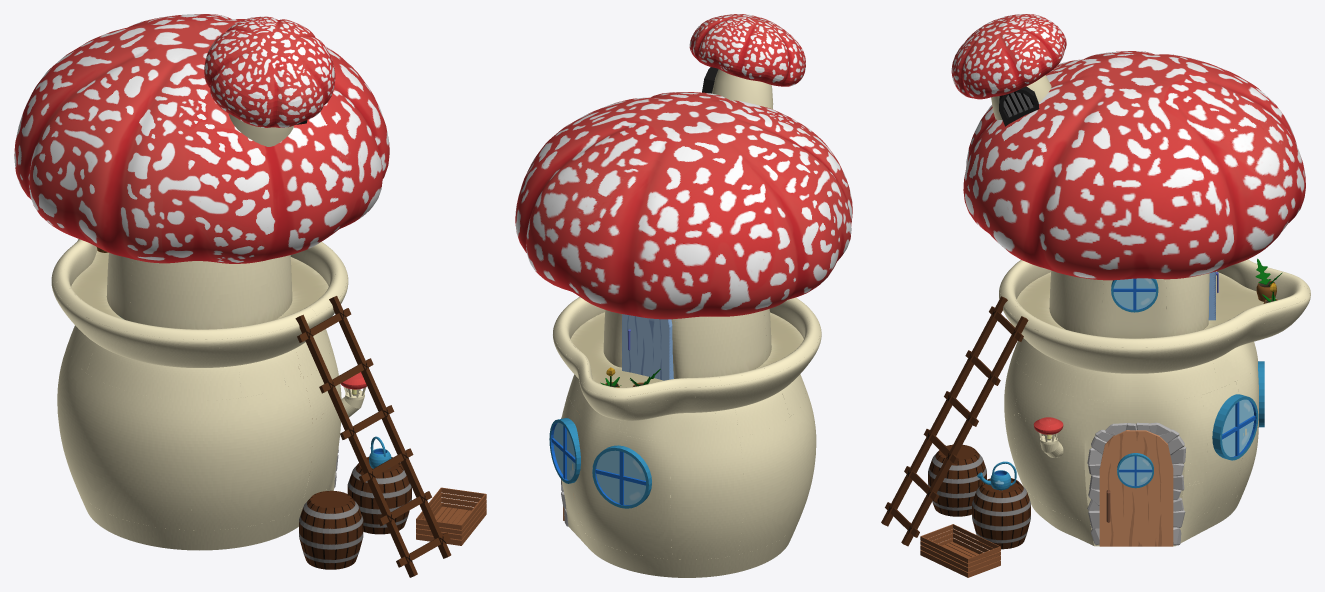
The model's file is mushroom__house.glb.
3 views of the same model, side by side, from view 1: azimuth 30°, elevation 25°; view 2: azimuth 150°, elevation 25°; view 3: azimuth 270°, elevation 25° (orthographic). The views are drawn at different scales.
Parts seen in each view (by area): view 1: CupRoof, object 15, house, CapSmall, object 19, object 16, object 14, object 13, ladder, barrel.002, object 17, box (+4 smaller); view 2: CupRoof, object 14, house, object 15, object 16, CapSmall, object 17, object 19, object 13, door, object 30, object 31 (+2 smaller); view 3: CupRoof, object 15, object 16, house, CapSmall, door.001, object 13, ladder, object 14, object 19, object 17, rocks (+10 smaller).
Boxes of the visible parts, <box> form: CupRoof: <box>14,14,389,263</box>; object 15: <box>57,263,348,530</box>; house: <box>77,252,335,550</box>; CapSmall: <box>204,16,335,127</box>; object 19: <box>112,261,271,530</box>; object 16: <box>51,260,347,400</box>; object 14: <box>52,251,331,523</box>; object 13: <box>54,239,346,339</box>; ladder: <box>295,296,451,577</box>; barrel.002: <box>299,490,363,569</box>; object 17: <box>66,239,335,397</box>; box: <box>416,487,486,545</box>; CupRoof: <box>515,92,852,319</box>; object 14: <box>570,312,803,559</box>; house: <box>566,310,797,577</box>; object 15: <box>553,318,821,554</box>; object 16: <box>557,317,810,440</box>; CapSmall: <box>689,14,805,86</box>; object 17: <box>553,299,809,442</box>; object 19: <box>561,316,782,559</box>; object 13: <box>554,297,820,396</box>; door: <box>622,314,675,380</box>; object 30: <box>592,445,651,508</box>; object 31: <box>549,418,580,483</box>; CupRoof: <box>963,51,1305,280</box>; object 15: <box>1014,287,1310,523</box>; object 16: <box>999,281,1310,401</box>; house: <box>1022,270,1245,546</box>; CapSmall: <box>951,14,1066,99</box>; door.001: <box>1099,430,1173,546</box>; object 13: <box>1000,259,1309,347</box>; ladder: <box>881,296,1028,546</box>; object 14: <box>1004,271,1309,500</box>; object 19: <box>1004,279,1257,521</box>; object 17: <box>999,280,1266,396</box>; rocks: <box>1087,422,1186,545</box>.
Bounding box in the file's own units: 4.62 × 6.47 × 5.28.
Materials: 19 (16 with a texture image).
